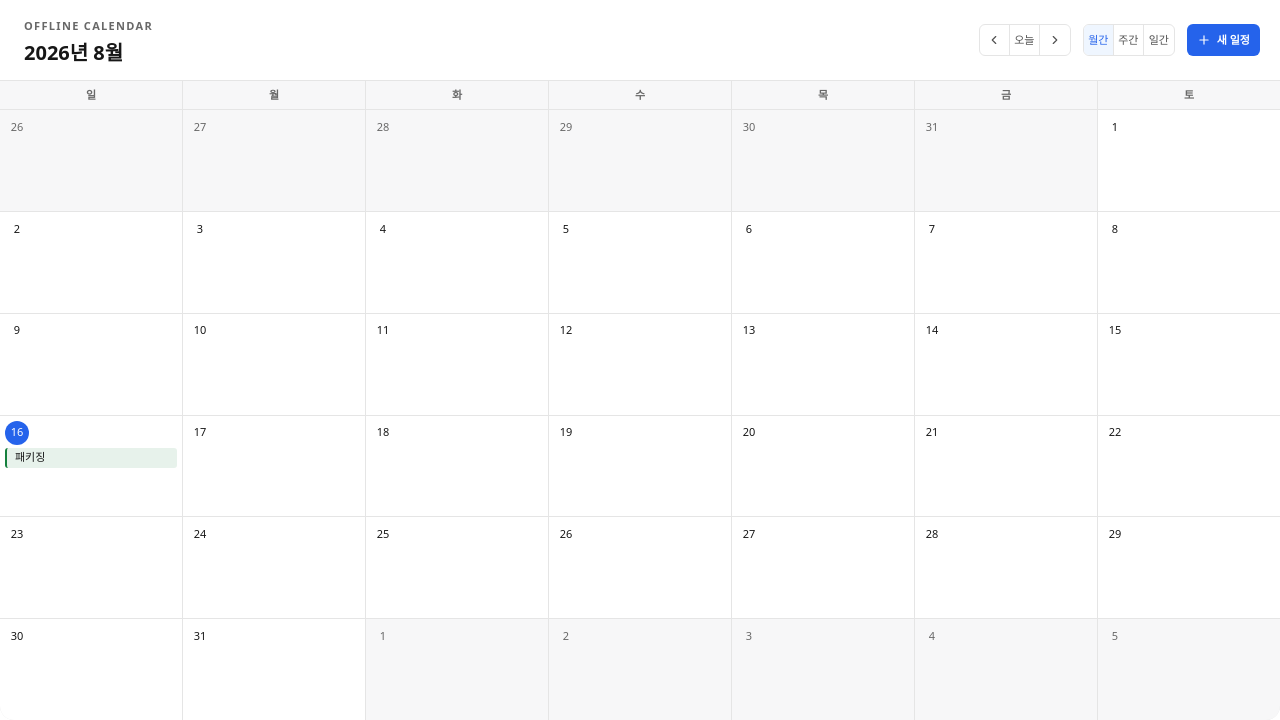
CalendarWorkspace › uses mode-aware Korean period labels and navigation names
This screenshot has width=1280, height=720.
Expected: the heading "2026년 8월" is shown, x1=24 y1=39 x2=123 y2=66
Expected: the button named "이전 달" is shown, x1=980 y1=25 x2=1010 y2=55
Click the button "일간" at (1159, 40), box x1=1144 y1=25 x2=1174 y2=55
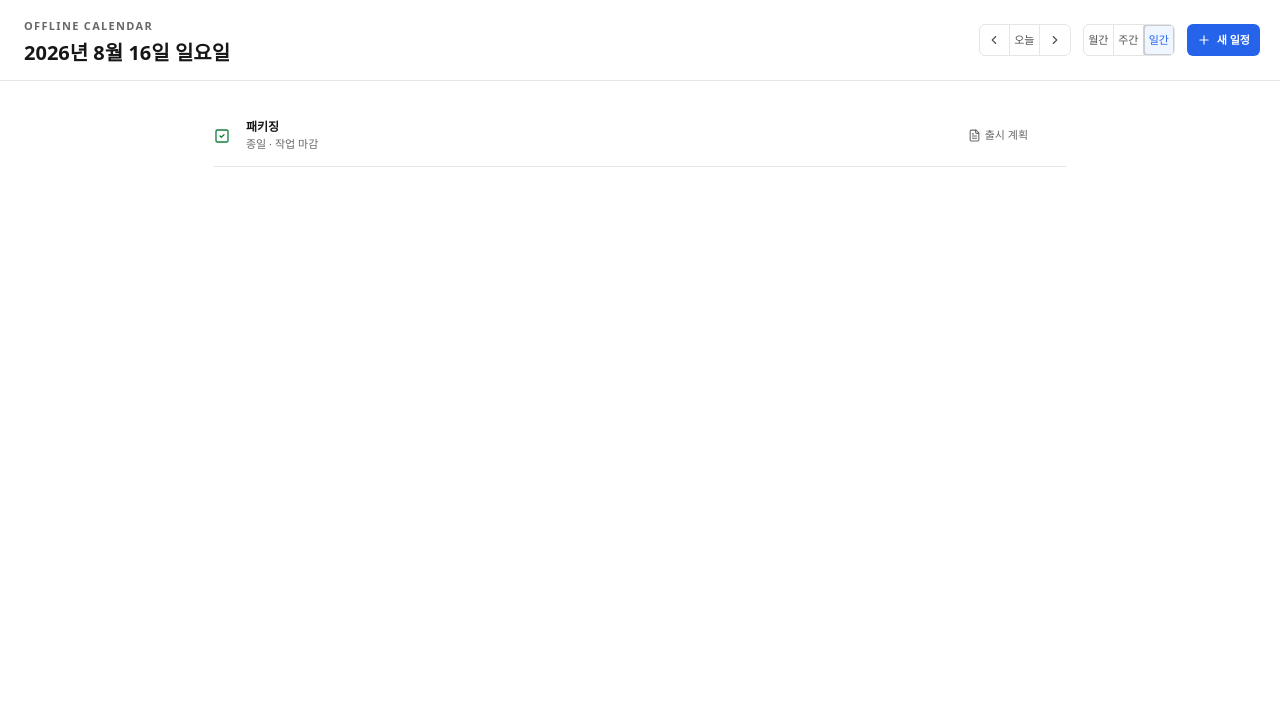
Expected: the button named "이전 날" is shown, x1=980 y1=25 x2=1010 y2=55
Now the heading "2026년 8월 16일 일요일" is shown, box x1=24 y1=38 x2=230 y2=68
Click the button named "다음 날" at (1055, 40), box x1=1040 y1=25 x2=1070 y2=55
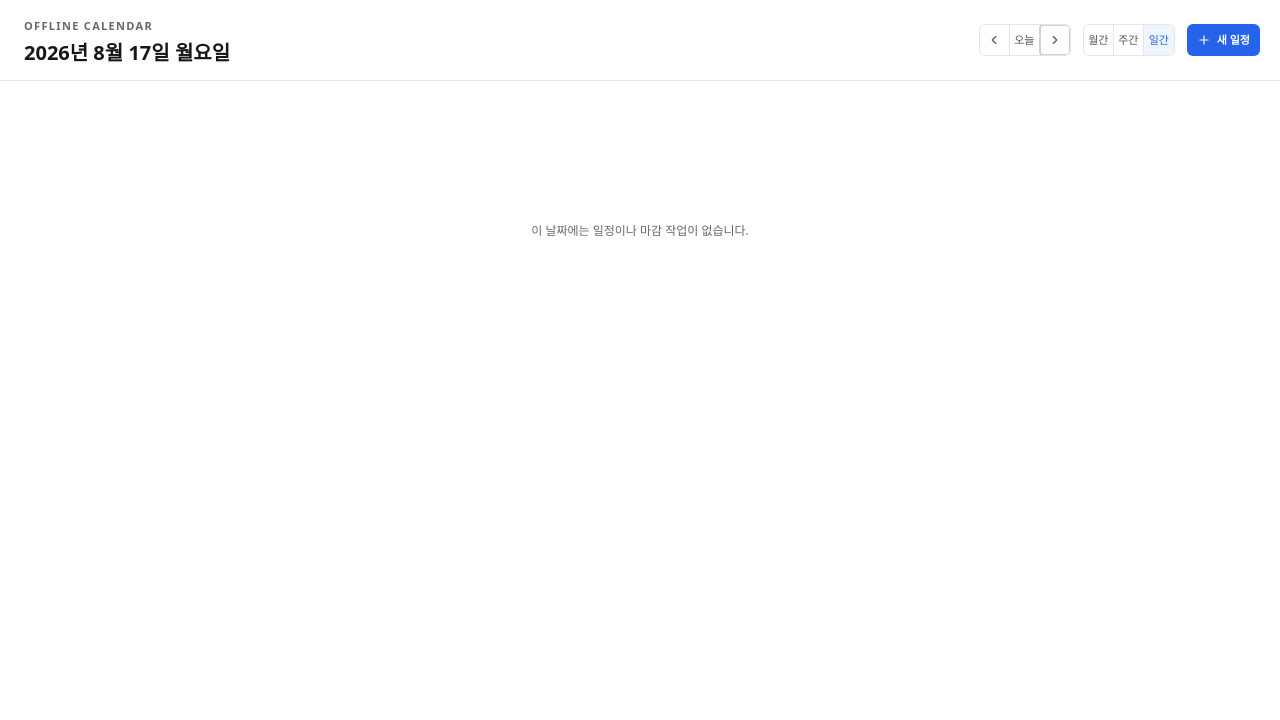
Now the heading "2026년 8월 17일 월요일" is shown, box x1=24 y1=38 x2=230 y2=68
